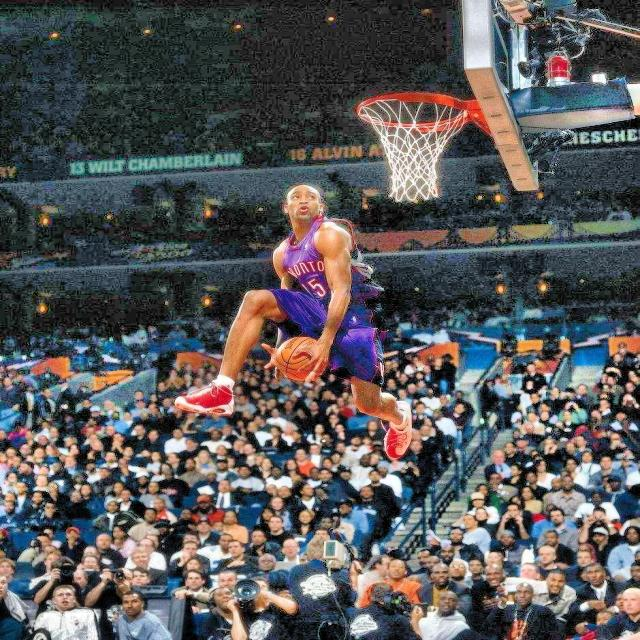rim: (359, 94, 474, 202)
